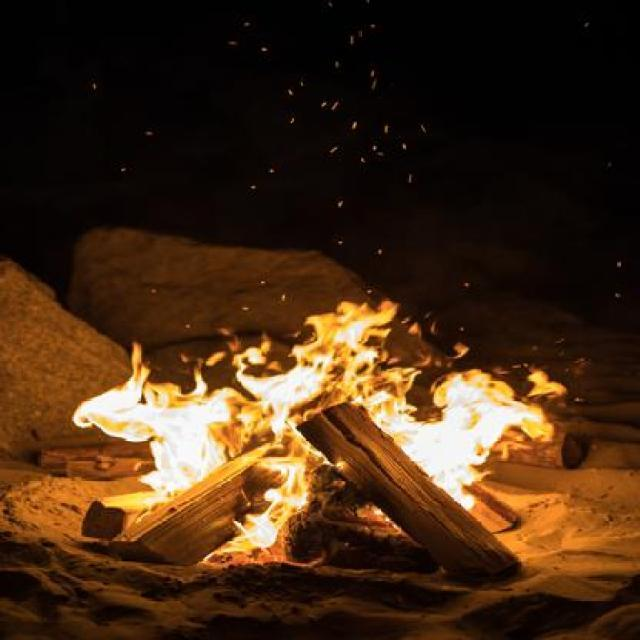Fire: (56, 294, 568, 572)
